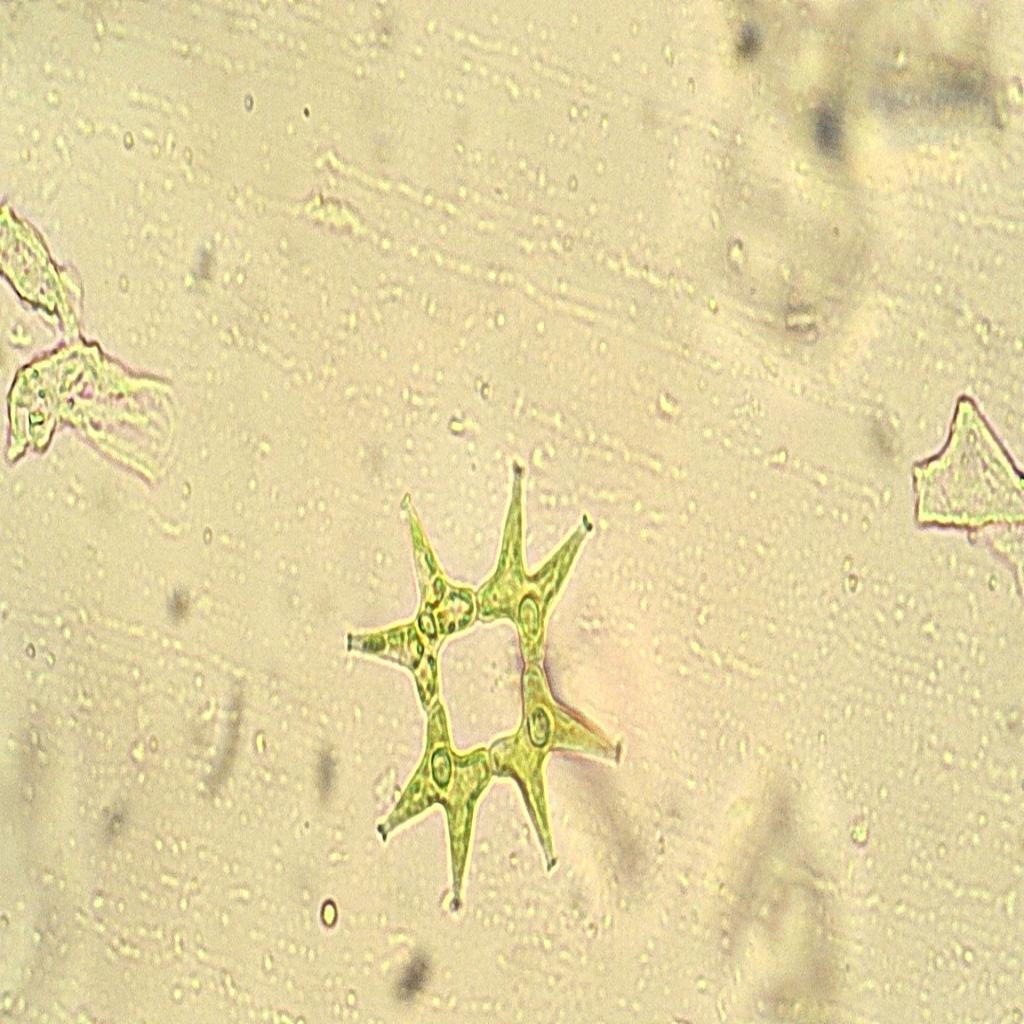Pediastrum_10: (331, 448, 639, 927)
